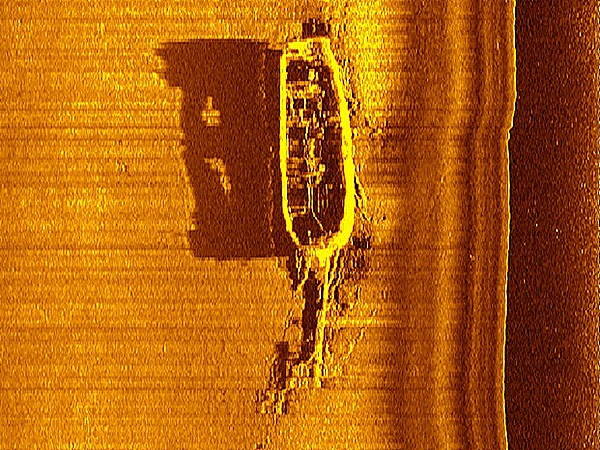ship: (278, 35, 358, 392)
